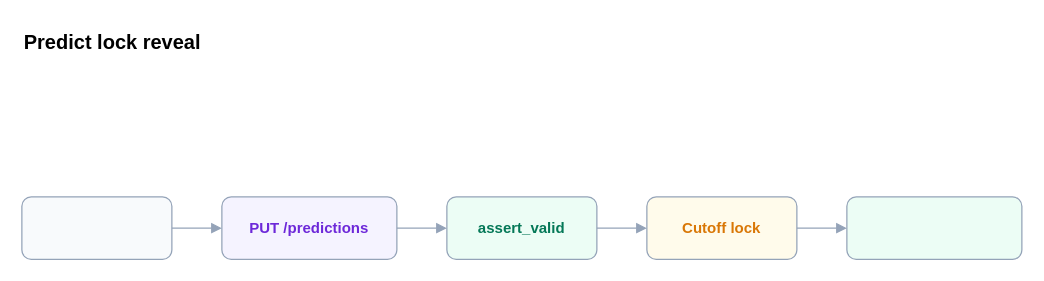
Some shapes in this 1044 by 281 pixel diagram are drawn without their labels. The shapes that lost their labels are listed below. From the top down, each one's centre as x and y in pixels, then its label:
At [96,227]: "Open pick".
At [934,227]: "Reveal on Board".
